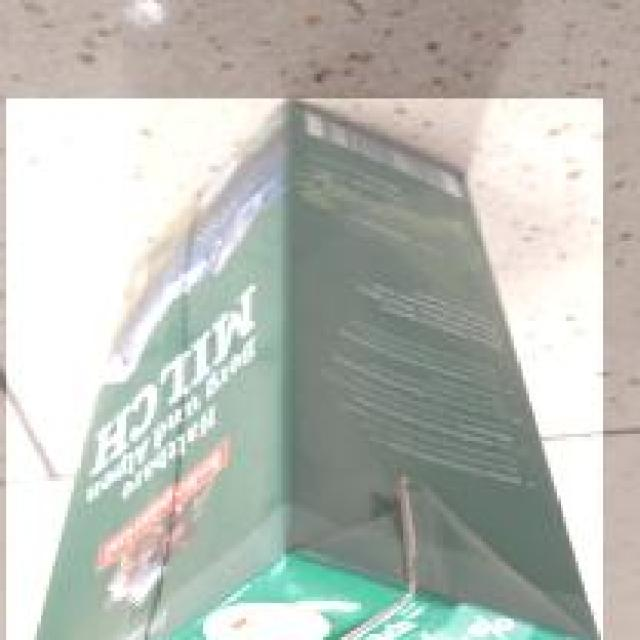milk: (3, 95, 603, 640)
